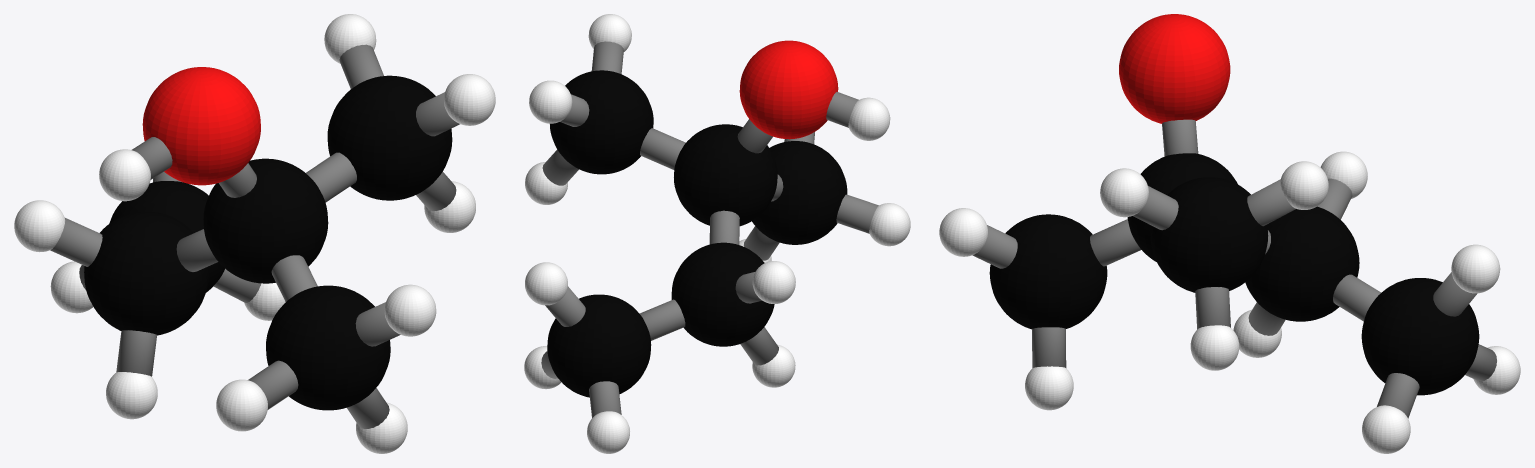
File: TERPENTILICO.obj
3 views of the same model, side by side, from view 1: azimuth 30°, elevation 25°; view 2: azimuth 150°, elevation 25°; view 3: azimuth 270°, elevation 25° (orthographic). The views are drawn at different scales.
Visible parts, largest first — view 1: Carbon_ball_Sphere, Hydrogen_ball_Sphere.001, Oxygen_ball_Sphere.002, Stick_Cylinder.005_Cylinder.005, Stick_Cylinder.006_Cylinder.006, Stick_Cylinder.003_Cylinder.003, Stick_Cylinder_Cylinder, Stick_Cylinder.012_Cylinder.012, Stick_Cylinder.015_Cylinder.015, Stick_Cylinder.010_Cylinder.010, Stick_Cylinder.002_Cylinder.002, Stick_Cylinder.014_Cylinder.014 (+5 smaller); view 2: Carbon_ball_Sphere, Hydrogen_ball_Sphere.001, Oxygen_ball_Sphere.002, Stick_Cylinder.003_Cylinder.003, Stick_Cylinder.004_Cylinder.004, Stick_Cylinder.012_Cylinder.012, Stick_Cylinder.002_Cylinder.002, Stick_Cylinder.007_Cylinder.007, Stick_Cylinder.009_Cylinder.009, Stick_Cylinder.014_Cylinder.014, Stick_Cylinder.005_Cylinder.005, Stick_Cylinder.013_Cylinder.013 (+5 smaller); view 3: Carbon_ball_Sphere, Hydrogen_ball_Sphere.001, Oxygen_ball_Sphere.002, Stick_Cylinder_Cylinder, Stick_Cylinder.011_Cylinder.011, Stick_Cylinder.013_Cylinder.013, Stick_Cylinder.004_Cylinder.004, Stick_Cylinder.015_Cylinder.015, Stick_Cylinder.008_Cylinder.008, Stick_Cylinder.001_Cylinder.001, Stick_Cylinder.014_Cylinder.014, Stick_Cylinder.010_Cylinder.010 (+4 smaller).
Boxes of the visible parts, left/top/right/bottom form: Carbon_ball_Sphere: left=84, top=75, right=452, bottom=410; Hydrogen_ball_Sphere.001: left=14, top=14, right=495, bottom=453; Oxygen_ball_Sphere.002: left=142, top=67, right=260, bottom=185; Stick_Cylinder.005_Cylinder.005: left=116, top=330, right=156, bottom=376; Stick_Cylinder.006_Cylinder.006: left=50, top=218, right=102, bottom=266; Stick_Cylinder.003_Cylinder.003: left=306, top=152, right=356, bottom=202; Stick_Cylinder_Cylinder: left=271, top=255, right=317, bottom=301; Stick_Cylinder.012_Cylinder.012: left=248, top=360, right=298, bottom=409; Stick_Cylinder.015_Cylinder.015: left=339, top=44, right=383, bottom=88; Stick_Cylinder.010_Cylinder.010: left=355, top=302, right=400, bottom=346; Stick_Cylinder.002_Cylinder.002: left=176, top=229, right=218, bottom=271; Stick_Cylinder.014_Cylinder.014: left=416, top=92, right=459, bottom=136; Carbon_ball_Sphere: left=547, top=70, right=847, bottom=397; Hydrogen_ball_Sphere.001: left=524, top=14, right=910, bottom=453; Oxygen_ball_Sphere.002: left=739, top=40, right=838, bottom=139; Stick_Cylinder.003_Cylinder.003: left=640, top=128, right=685, bottom=169; Stick_Cylinder.004_Cylinder.004: left=639, top=299, right=685, bottom=340; Stick_Cylinder.012_Cylinder.012: left=836, top=194, right=878, bottom=233; Stick_Cylinder.002_Cylinder.002: left=709, top=210, right=739, bottom=244; Stick_Cylinder.007_Cylinder.007: left=589, top=381, right=621, bottom=417; Stick_Cylinder.009_Cylinder.009: left=545, top=286, right=585, bottom=326; Stick_Cylinder.014_Cylinder.014: left=591, top=41, right=623, bottom=74; Stick_Cylinder.005_Cylinder.005: left=740, top=327, right=778, bottom=365; Stick_Cylinder.013_Cylinder.013: left=542, top=150, right=578, bottom=185; Carbon_ball_Sphere: left=989, top=153, right=1479, bottom=395; Hydrogen_ball_Sphere.001: left=939, top=151, right=1520, bottom=453; Oxygen_ball_Sphere.002: left=1119, top=14, right=1230, bottom=123; Stick_Cylinder_Cylinder: left=1090, top=219, right=1141, bottom=266; Stick_Cylinder.011_Cylinder.011: left=1032, top=327, right=1066, bottom=367; Stick_Cylinder.013_Cylinder.013: left=1195, top=287, right=1230, bottom=329; Stick_Cylinder.004_Cylinder.004: left=1333, top=274, right=1380, bottom=321; Stick_Cylinder.015_Cylinder.015: left=1247, top=179, right=1296, bottom=226; Stick_Cylinder.008_Cylinder.008: left=1377, top=373, right=1419, bottom=418; Stick_Cylinder.001_Cylinder.001: left=1162, top=119, right=1198, bottom=156; Stick_Cylinder.014_Cylinder.014: left=1133, top=186, right=1178, bottom=230; Stick_Cylinder.010_Cylinder.010: left=972, top=225, right=1017, bottom=268.
Size of the model in its own units: 5.13 by 4.58 by 6.85.
